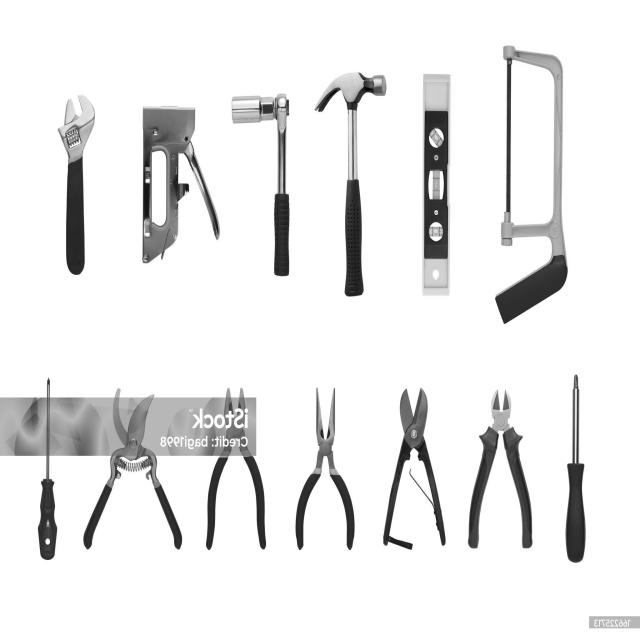hammer: (304, 50, 395, 308)
level: (409, 56, 461, 305)
pliers: (195, 388, 271, 576), (460, 388, 537, 568), (286, 388, 358, 571)
saw: (479, 31, 576, 339)
scissors: (73, 378, 182, 577), (376, 384, 446, 571)
screwdriver: (549, 366, 605, 584), (19, 370, 65, 584)
wrench: (38, 76, 106, 294)
